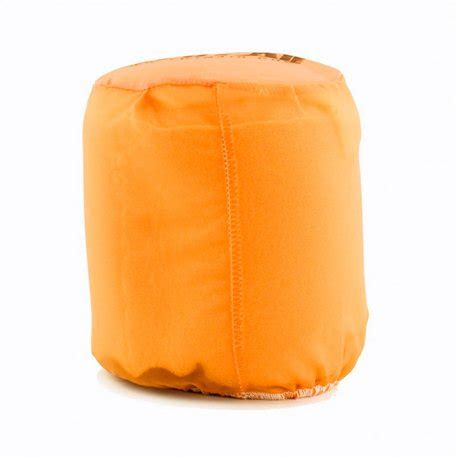nylon: (80, 50, 370, 402)
